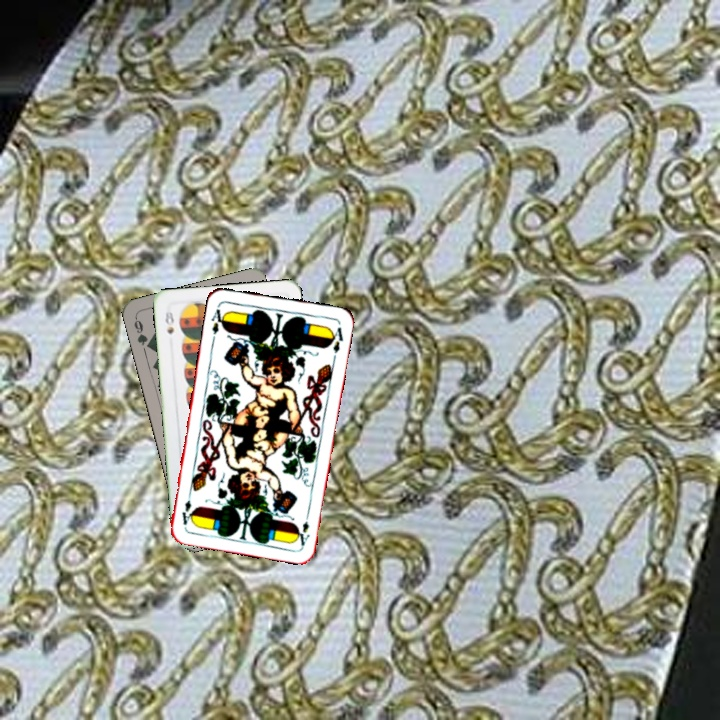EA: (207, 301, 229, 337), (293, 508, 312, 548)
G9: (130, 313, 155, 352)
S8: (161, 307, 177, 337)
